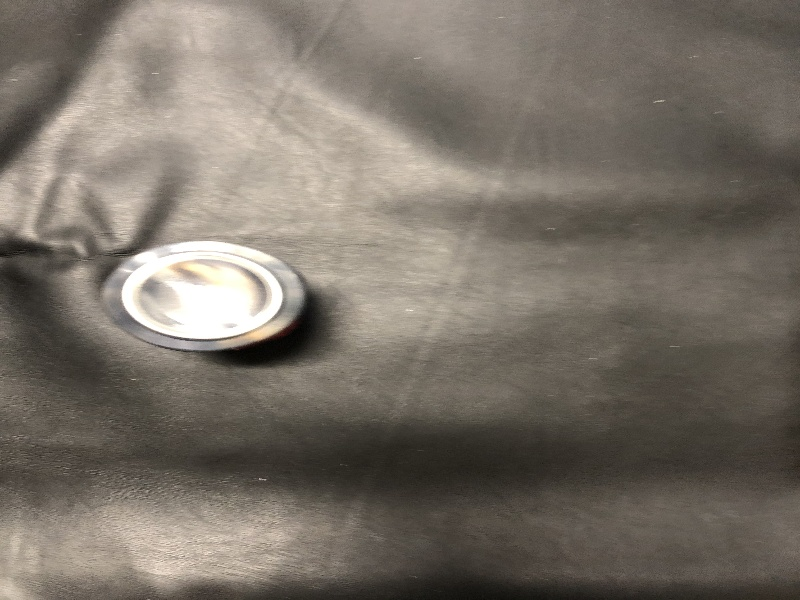metal: (94, 233, 316, 364)
